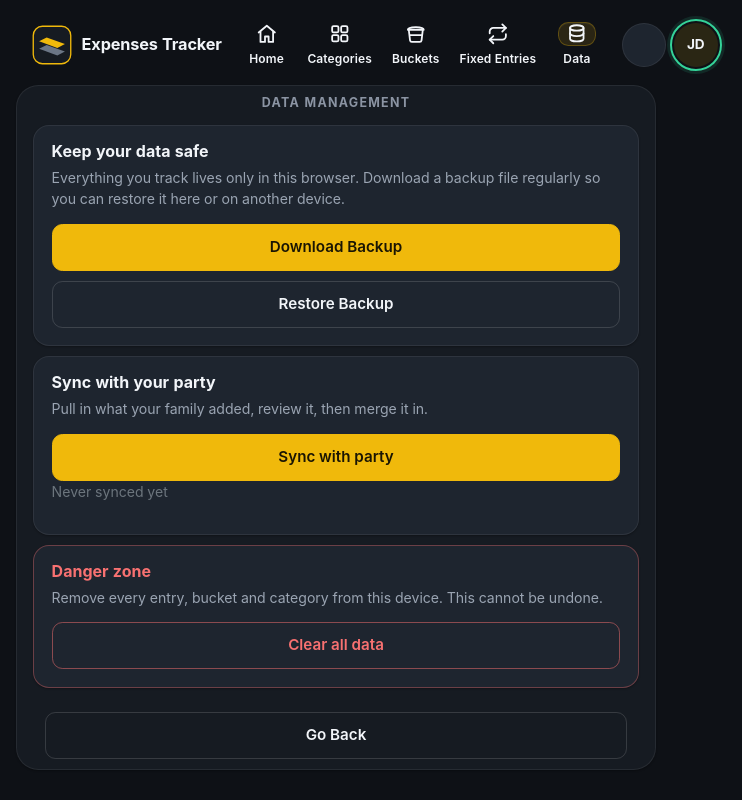
Test: no-wizard sync paths › blocked after load (EC-9): declined banner, then the card re-renders disabled
The image size is (742, 800).
expect the text "Never synced yet" is shown: met, box [52, 483, 168, 500]
Click the button "Sync with party" at (336, 457), box [52, 434, 620, 481]
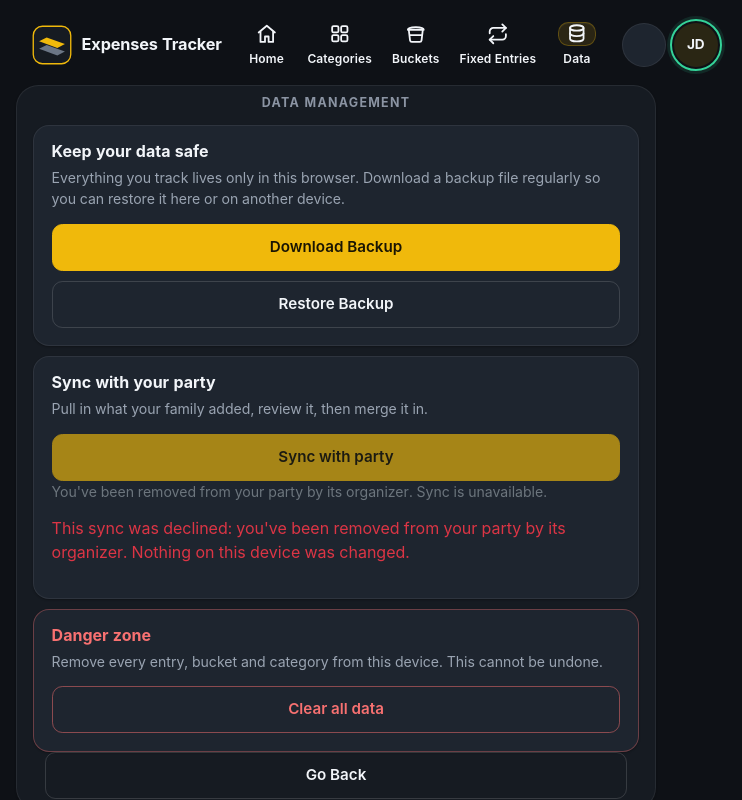
expect the message shows "This sync was declined: you've been removed from your party by its organizer. Nothing on this device was changed.": met, box [52, 518, 566, 562]
expect the text "You've been removed from your party by its organizer. Sync is unavailable." is shown: met, box [52, 481, 620, 502]
expect the button "Sync with party" is disabled: met, box [52, 434, 620, 481]
